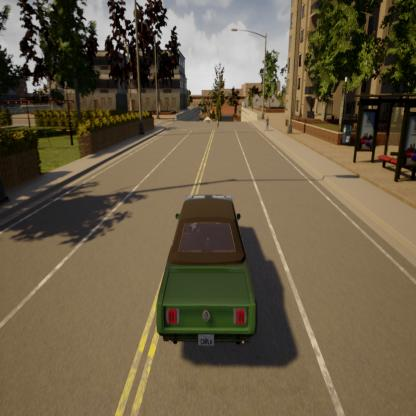Cars: (142, 185, 274, 367)
Pedestrian: (264, 111, 271, 137)
